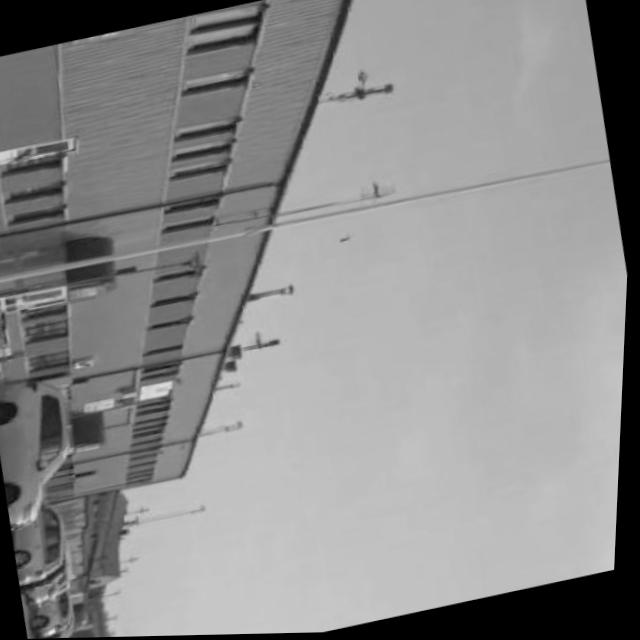helikopter: (332, 225, 365, 254)
